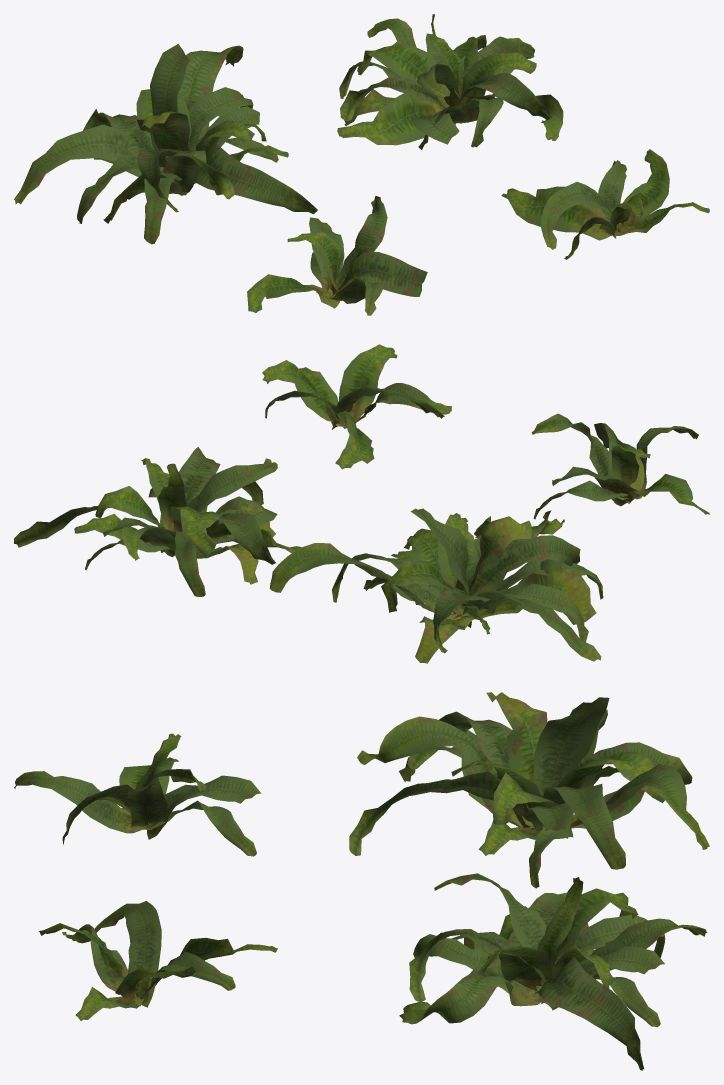
The model's file is fern_02.glb.
3 renders of one model, top to bottom at view 1: azimuth 30°, elevation 25°; view 2: azimuth 150°, elevation 25°; view 3: azimuth 270°, elevation 25°, orthographic. The views are drawn at different scales.
Visible parts, largest first — view 1: fern_02_b, fern_02_c, fern_02_d, fern_02_a; view 2: fern_02_b, fern_02_c, fern_02_d, fern_02_a; view 3: fern_02_b, fern_02_c, fern_02_a, fern_02_d.
Boxes of the visible parts, bbox=[...] form: fern_02_b: bbox=[14, 44, 317, 244]; fern_02_c: bbox=[337, 14, 563, 149]; fern_02_d: bbox=[501, 149, 709, 259]; fern_02_a: bbox=[247, 196, 427, 315]; fern_02_b: bbox=[269, 508, 603, 663]; fern_02_c: bbox=[14, 447, 300, 596]; fern_02_d: bbox=[262, 344, 451, 469]; fern_02_a: bbox=[531, 413, 709, 519]; fern_02_b: bbox=[349, 692, 709, 888]; fern_02_c: bbox=[399, 873, 707, 1070]; fern_02_a: bbox=[14, 733, 261, 856]; fern_02_d: bbox=[39, 901, 277, 1020].
Size of the model in its own units: 1.97 by 0.4277 by 1.72.
Materials: 1 (1 with a texture image).
